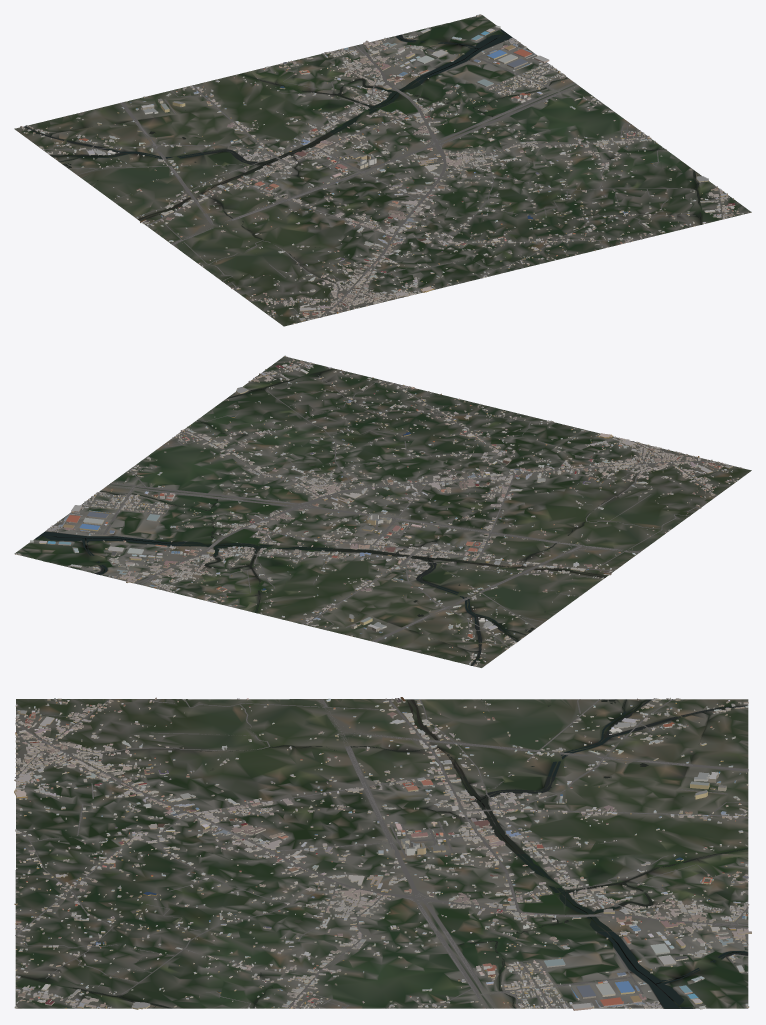
3 renders of one model, top to bottom at view 1: azimuth 30°, elevation 25°; view 2: azimuth 150°, elevation 25°; view 3: azimuth 270°, elevation 25°, orthographic. The views are drawn at different scales.
Visible parts, largest first — view 1: ground, buildings, roads, water; view 2: ground, buildings, roads, water; view 3: ground, buildings, roads, water.
Boxes of the visible parts, <box> form: ground: <box>14,14,750,326</box>; buildings: <box>20,14,751,323</box>; roads: <box>42,32,749,317</box>; water: <box>24,30,713,282</box>; ground: <box>14,356,751,667</box>; buildings: <box>15,355,741,666</box>; roads: <box>75,359,717,647</box>; water: <box>35,369,640,665</box>; ground: <box>15,699,748,1008</box>; buildings: <box>14,697,751,1010</box>; roads: <box>15,699,748,1008</box>; water: <box>19,699,748,1008</box>.
Bounding box in the file's own units: 5659 × 62.52 × 5644.
